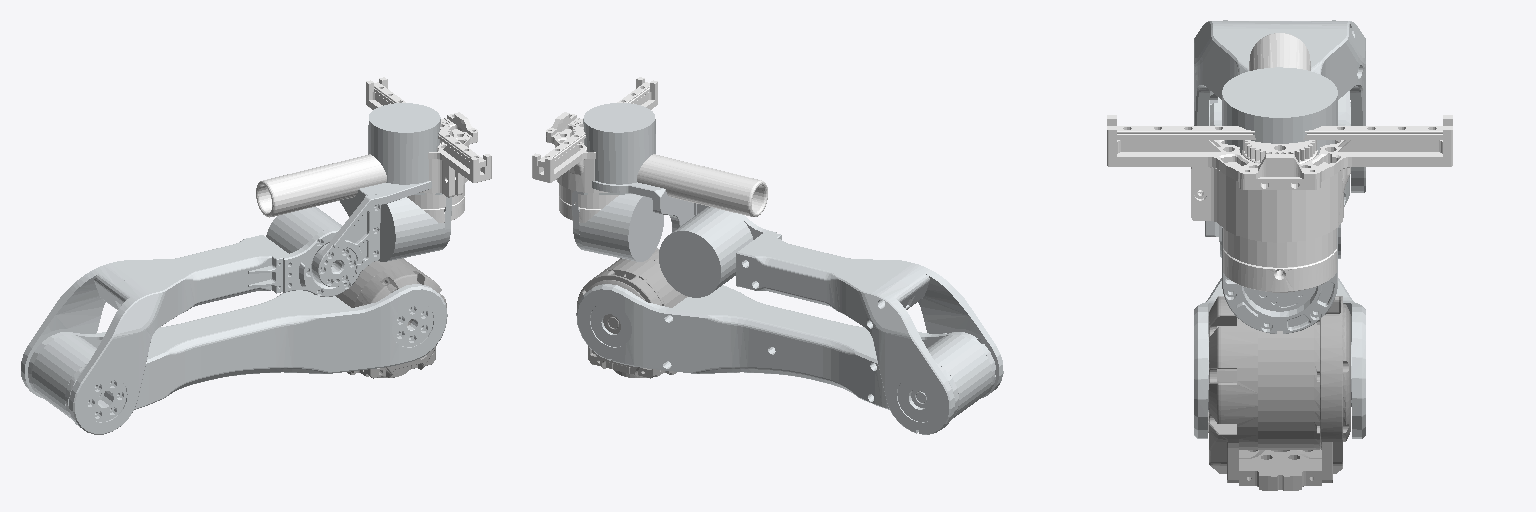
URDF robot description (y1):
<?xml version="1.0" encoding="utf-8"?>
<!-- This URDF was automatically created by SolidWorks to URDF Exporter! Originally created by Stephen Brawner (brawner@gmail.com) 
     Commit Version: 1.6.0-4-g7f85cfe  Build Version: 1.6.7995.38578
     For more information, please see http://wiki.ros.org/sw_urdf_exporter -->
<robot
  name="y1">
  <link name="world"/>
  <joint name="fixed_base_joint" type="fixed">
    <parent link="world"/>
    <child link="base_link"/>
  </joint>
  <link
    name="base_link">
    <inertial>
      <origin
        xyz="-0.000029 -0.000001 0.033965"
        rpy="0 0 0" />
      <mass
        value="0.632" />
      <inertia
        ixx="0.000532"
        ixy="0.000000"
        ixz="0.000001"
        iyy="0.000532"
        iyz="0.000000"
        izz="0.000493" />
    </inertial>
    <visual>
      <origin
        xyz="0 0 0"
        rpy="0 0 0" />
      <geometry>
        <mesh
          filename="package://y1_description/meshes/base_link.STL" />
      </geometry>
      <material
        name="">
        <color
          rgba="0.89804 0.91765 0.92941 1" />
      </material>
    </visual>
    <collision>
      <origin
        xyz="0 0 0"
        rpy="0 0 0" />
      <geometry>
        <mesh
          filename="package://y1_description/meshes/base_link.STL" />
      </geometry>
    </collision>
  </link>
  <link
    name="Link1">
    <inertial>
      <origin
        xyz="0.000693 -0.001221 0.050197"
        rpy="0 0 0" />
      <mass
        value="0.893000" />
      <inertia
        ixx="0.000738"
        ixy="0.000001"
        ixz="-0.000001"
        iyy="0.000755"
        iyz="-0.000002"
        izz="0.000606" />
    </inertial>
    <visual>
      <origin
        xyz="0 0 0"
        rpy="0 0 0" />
      <geometry>
        <mesh
          filename="package://y1_description/meshes/Link1.STL" />
      </geometry>
      <material
        name="">
        <color
          rgba="0.75294 0.75294 0.75294 1" />
      </material>
    </visual>
    <collision>
      <origin
        xyz="0 0 0"
        rpy="0 0 0" />
      <geometry>
        <mesh
          filename="package://y1_description/meshes/Link1.STL" />
      </geometry>
    </collision>
  </link>
  <joint
    name="JOINT1"
    type="revolute">
    <origin
      xyz="0 0 0.06675"
      rpy="0 0 0" />
    <parent
      link="base_link" />
    <child
      link="Link1" />
    <axis
      xyz="0 0 1" />
    <limit
      lower="-3.0"
      upper="3.0"
      effort="30"
      velocity="10" />
  </joint>
  <link
    name="Link2">
    <inertial>
      <origin
        xyz="-0.185969 -0.001045 -0.000524"
        rpy="0 0 0" />
      <mass
        value="1.028000" />
      <inertia
        ixx="0.000769"
        ixy="0.000142"
        ixz="-0.000070"
        iyy="0.011712"
        iyz="0.000002"
        izz="0.011441" />
    </inertial>
    <visual>
      <origin
        xyz="0 0 0"
        rpy="0 0 0" />
      <geometry>
        <mesh
          filename="package://y1_description/meshes/Link2.STL" />
      </geometry>
      <material
        name="">
        <color
          rgba="0.898039215686275 0.917647058823529 0.929411764705882 1" />
      </material>
    </visual>
    <collision>
      <origin
        xyz="0 0 0"
        rpy="0 0 0" />
      <geometry>
        <mesh
          filename="package://y1_description/meshes/Link2.STL" />
      </geometry>
    </collision>
  </link>
  <joint
    name="JOINT2"
    type="revolute">
    <origin
      xyz="0.00075 0 0.055"
      rpy="1.5708 0 0" />
    <parent
      link="Link1" />
    <child
      link="Link2" />
    <axis
      xyz="0 0 1" />
    <limit
      lower="-3.5"
      upper="0.2"
      effort="120"
      velocity="10" />
  </joint>
  <link
    name="Link3">
    <inertial>
      <origin
        xyz="0.132810 0.052976 -0.000025"
        rpy="0 0 0" />
      <mass
        value="0.838" />
      <inertia
        ixx="0.000976"
        ixy="-0.001080"
        ixz="0.000036"
        iyy="0.007005"
        iyz="0.000000"
        izz="0.007063" />
    </inertial>
    <visual>
      <origin
        xyz="0 0 0"
        rpy="0 0 0" />
      <geometry>
        <mesh
          filename="package://y1_description/meshes/Link3.STL" />
      </geometry>
      <material
        name="">
        <color
          rgba="0.89804 0.91765 0.92941 1" />
      </material>
    </visual>
    <collision>
      <origin
        xyz="0 0 0"
        rpy="0 0 0" />
      <geometry>
        <mesh
          filename="package://y1_description/meshes/Link3.STL" />
      </geometry>
    </collision>
  </link>
  <joint
    name="JOINT3"
    type="revolute">
    <origin
      xyz="-0.28 0 0"
      rpy="0 0 0" />
    <parent
      link="Link2" />
    <child
      link="Link3" />
    <axis
      xyz="0 0 1" />
    <limit
      lower="-0.2"
      upper="3.25"
      effort="30"
      velocity="10" />
  </joint>
  <link
    name="Link4">
    <inertial>
      <origin
        xyz="0.067326 0.059806 0.005043"
        rpy="0 0 0" />
      <mass
        value="0.444000" />
      <inertia
        ixx="0.000428"
        ixy="-0.000241"
        ixz="0.000099"
        iyy="0.000477"
        iyz="0.000091"
        izz="0.000648" />
    </inertial>
    <visual>
      <origin
        xyz="0 0 0"
        rpy="0 0 0" />
      <geometry>
        <mesh
          filename="package://y1_description/meshes/Link4.STL" />
      </geometry>
      <material
        name="">
        <color
          rgba="0.898039215686275 0.917647058823529 0.929411764705882 1" />
      </material>
    </visual>
    <collision>
      <origin
        xyz="0 0 0"
        rpy="0 0 0" />
      <geometry>
        <mesh
          filename="package://y1_description/meshes/Link4.STL" />
      </geometry>
    </collision>
  </link>
  <joint
    name="JOINT4"
    type="revolute">
    <origin
      xyz="0.215 0.063 0"
      rpy="0 0 0" />
    <parent
      link="Link3" />
    <child
      link="Link4" />
    <axis
      xyz="0 0 1" />
    <limit
      lower="-2.35"
      upper="1.6"
      effort="30"
      velocity="10" />
  </joint>
  <link
    name="Link5">
    <inertial>
      <origin
        xyz="0.002596 0.000018 0.039895"
        rpy="0 0 0" />
      <mass
        value="0.363000" />
      <inertia
        ixx="0.000189"
        ixy="0.000000"
        ixz="0.000008"
        iyy="0.000186"
        iyz="-0.000001"
        izz="0.000148" />
    </inertial>
    <visual>
      <origin
        xyz="0 0 0"
        rpy="0 0 0" />
      <geometry>
        <mesh
          filename="package://y1_description/meshes/Link5.STL" />
      </geometry>
      <material
        name="">
        <color
          rgba="0.89804 0.91765 0.92941 1" />
      </material>
    </visual>
    <collision>
      <origin
        xyz="0 0 0"
        rpy="0 0 0" />
      <geometry>
        <mesh
          filename="package://y1_description/meshes/Link5.STL" />
      </geometry>
    </collision>
  </link>
  <joint
    name="JOINT5"
    type="revolute">
    <origin
      xyz="0.080817 0.05072 0.00025"
      rpy="1.5708 0 -0.015918" />
    <parent
      link="Link4" />
    <child
      link="Link5" />
    <axis
      xyz="0 0 1" />
    <limit
      lower="-1.6"
      upper="1.6"
      effort="20"
      velocity="30" />
  </joint>
  <link
    name="Link6">
    <inertial>
      <origin
        xyz="0.059580 0.000000 -0.006779"
        rpy="0 0 0" />
      <mass
        value="0.667000" />
      <inertia
        ixx="0.000731"
        ixy="0.000000"
        ixz="-0.000002"
        iyy="0.001116"
        iyz="-0.000001"
        izz="0.000942" />
    </inertial>
    <visual>
      <origin
        xyz="0 0 0"
        rpy="0 0 0" />
      <geometry>
        <mesh
          filename="package://y1_description/meshes/Link6.STL" />
      </geometry>
      <material
        name="">
        <color
          rgba="1 1 1 1" />
      </material>
    </visual>
    <collision>
      <origin
        xyz="0 0 0"
        rpy="0 0 0" />
      <geometry>
        <mesh
          filename="package://y1_description/meshes/Link6.STL" />
      </geometry>
    </collision>
  </link>
  <joint
    name="JOINT6"
    type="revolute">
    <origin
      xyz="0.0235 0 0.0440000000000001"
      rpy="-3.14159265330655 0 0" />
    <parent
      link="Link5" />
    <child
      link="Link6" />
    <axis
      xyz="1 0 0" />
    <limit
      lower="-2.75"
      upper="2.75"
      effort="20"
      velocity="30" />
  </joint>
</robot>

--- Render facts (derived) ---
3 views of the same robot in one strip: view 1: azimuth 30°, elevation 25°; view 2: azimuth 150°, elevation 25°; view 3: azimuth 270°, elevation 25° (orthographic).
Model y1 with 8 links and 7 joints (6 revolute, 1 fixed), rooted at world, posed all joints at 0.
Links seen in each view (by area): view 1: Link2, Link3, Link6, Link4, Link5, Link1; view 2: Link3, Link2, Link6, Link4, Link5, Link1; view 3: Link6, Link1, Link3, Link4, Link2, Link5.
Boxes of the visible links, x1,y1,x2,y2 form: Link2: (28, 284, 447, 419); Link3: (21, 207, 360, 434); Link6: (256, 77, 491, 222); Link4: (312, 103, 440, 286); Link5: (379, 193, 451, 261); Link1: (336, 258, 446, 378); Link3: (659, 206, 1003, 434); Link2: (576, 284, 995, 419); Link6: (532, 77, 767, 222); Link4: (583, 103, 707, 231); Link5: (572, 191, 663, 261); Link1: (577, 248, 687, 378); Link6: (1107, 33, 1452, 292); Link1: (1208, 296, 1350, 490); Link3: (1194, 20, 1365, 258); Link4: (1205, 67, 1337, 241); Link2: (1194, 91, 1365, 438); Link5: (1222, 227, 1337, 333).
Size in the robot's own frame: 0.3836 by 0.17 by 0.2152 metres.
6 mesh visuals loaded from 7 distinct referenced files (6 binary STL); not drawn: 1 (reference not matched to a file when rendering).
